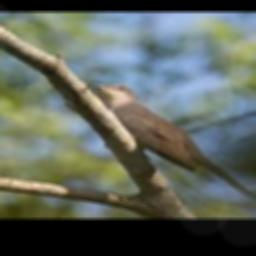Cuckoo: (90, 83, 256, 204)
